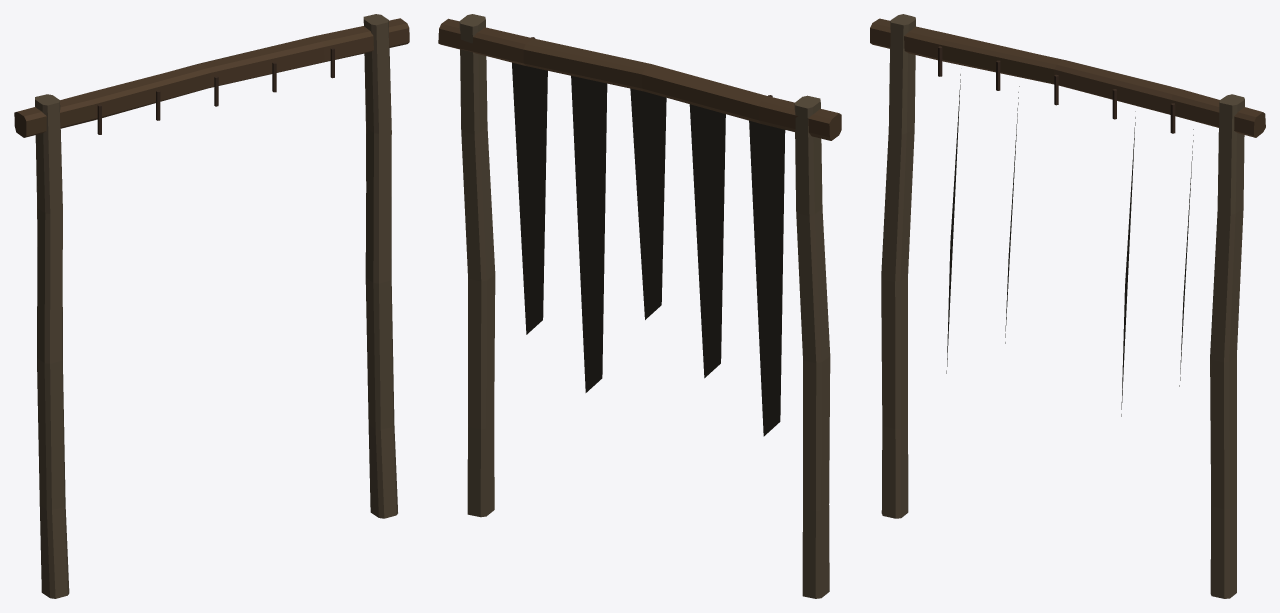
The model's file is drying-rack.glb.
3 renders of one model, left to right at view 1: azimuth 30°, elevation 25°; view 2: azimuth 150°, elevation 25°; view 3: azimuth 330°, elevation 25°, orthographic.
Visible parts, largest first — view 1: Wood; view 2: Wood, Cloth; view 3: Wood, Cloth.
Part boxes in pixels (bbox=[...]): Wood: bbox=[14, 14, 409, 598]; Wood: bbox=[438, 14, 841, 598]; Cloth: bbox=[512, 62, 785, 436]; Wood: bbox=[870, 14, 1265, 598]; Cloth: bbox=[946, 74, 1193, 416].
Bounding box in the file's own units: 1.12 × 1.36 × 0.1074.
